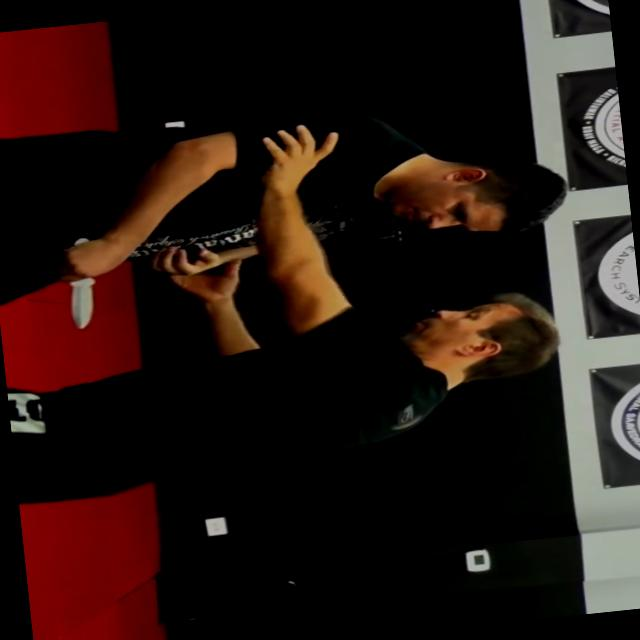knife: (51, 231, 110, 338)
